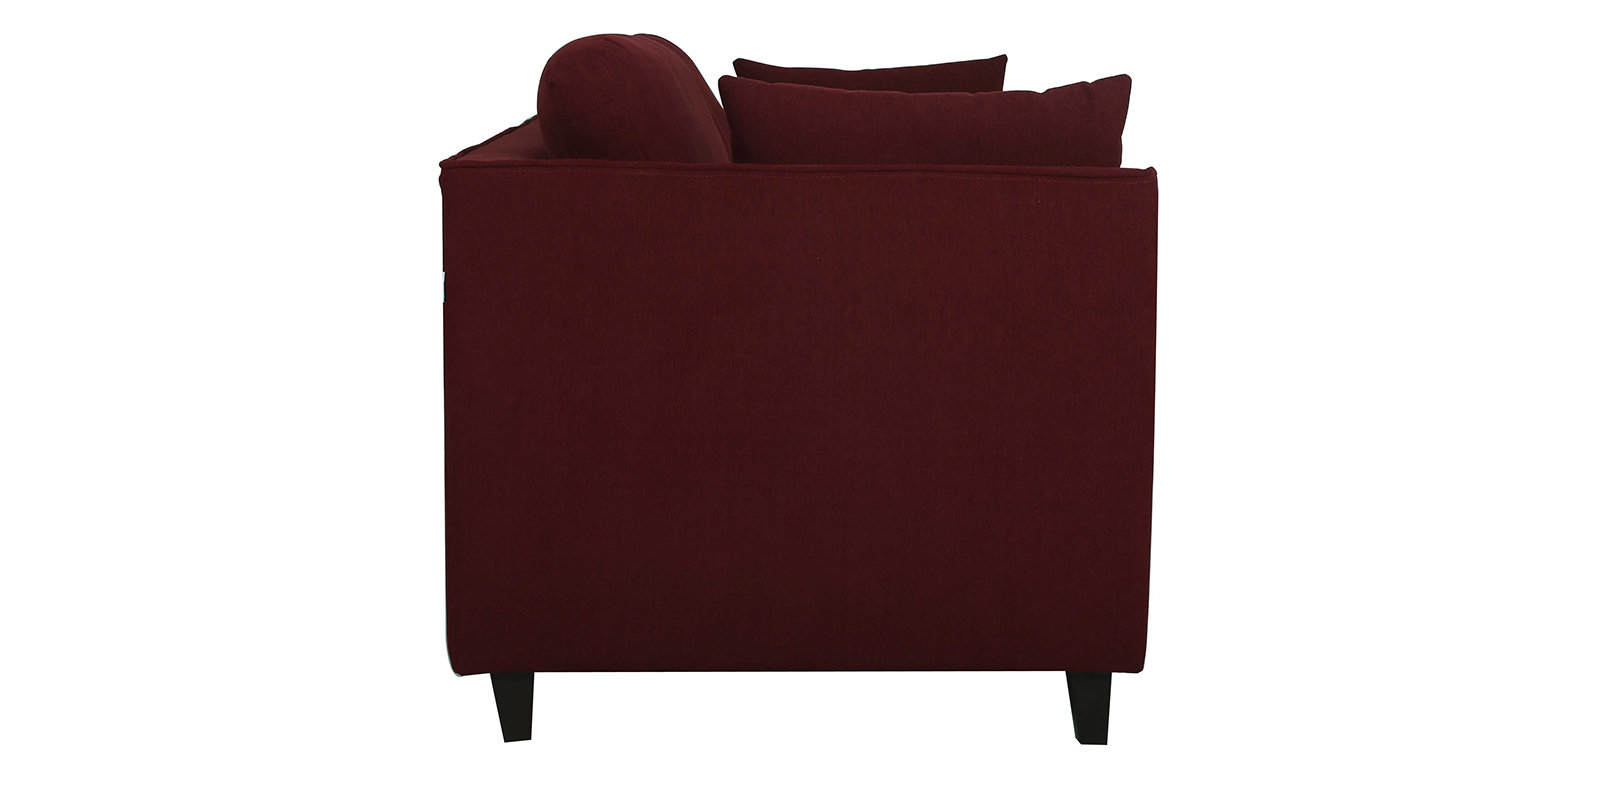Miranda Three Seater Sofa in Garnet Red Colour by CasaCraft: (439, 32, 1161, 747)
